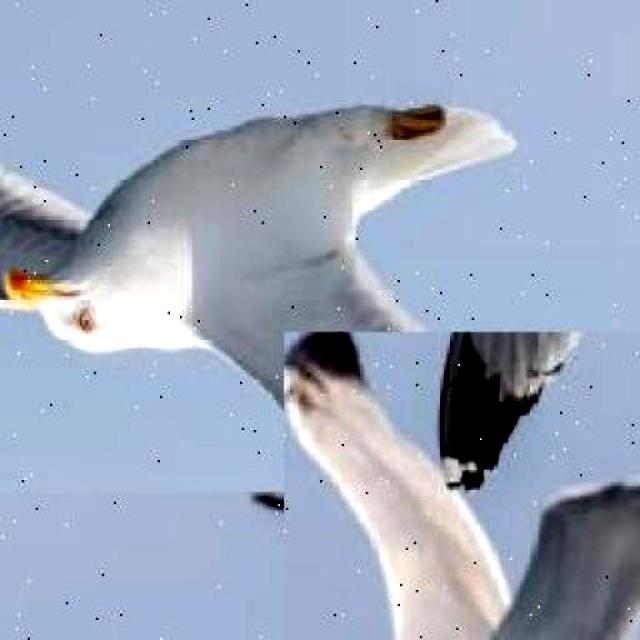airplane: (0, 0, 640, 492), (284, 332, 640, 640)
